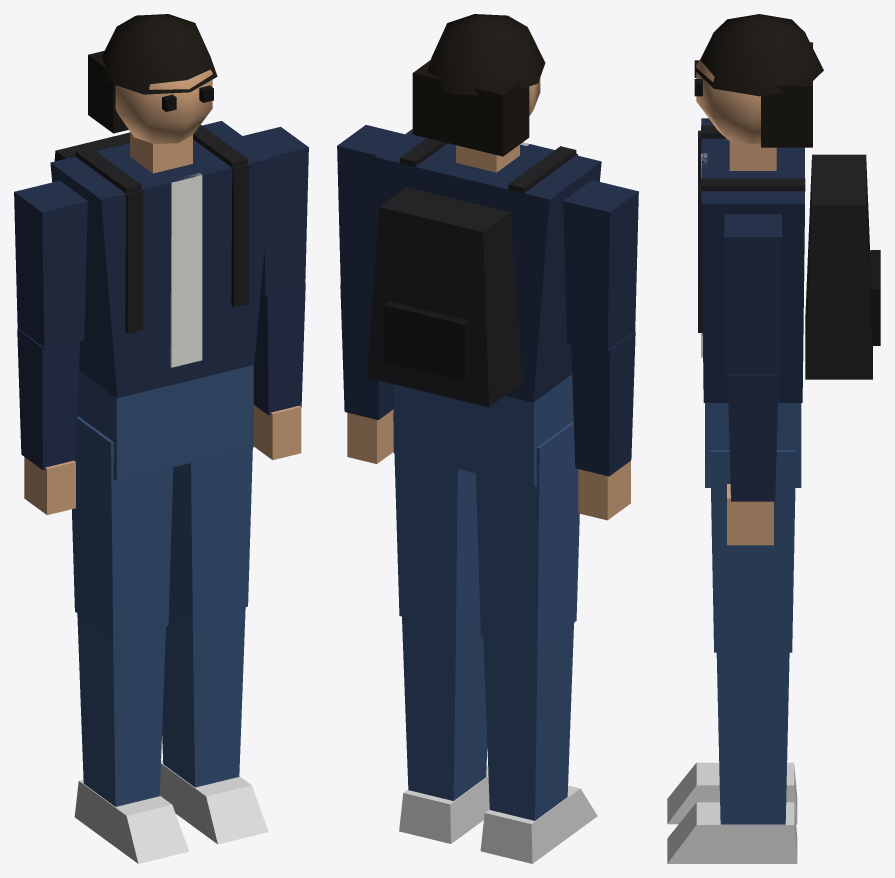
Rendered from npc_mahasiswa.glb.
The picture shows the model from 3 angles, left to right: view 1: azimuth 30°, elevation 25°; view 2: azimuth 150°, elevation 25°; view 3: azimuth 270°, elevation 25°; orthographic projection. The views are drawn at different scales.
Parts seen in each view (by area): view 1: torso, leg_r, leg_l, arm_r, arm_l, head; view 2: torso, leg_r, leg_l, arm_r, head, arm_l; view 3: torso, leg_l, arm_l, head, leg_r.
Part boxes in pixels (left/top/right/bottom): torso: left=50, top=121, right=272, bottom=480; leg_r: left=72, top=416, right=188, bottom=863; leg_l: left=159, top=408, right=268, bottom=844; arm_r: left=14, top=180, right=87, bottom=515; arm_l: left=243, top=126, right=308, bottom=459; head: left=88, top=14, right=217, bottom=143; torso: left=367, top=129, right=601, bottom=487; leg_r: left=476, top=421, right=597, bottom=863; leg_l: left=393, top=413, right=489, bottom=843; arm_r: left=563, top=180, right=638, bottom=520; head: left=412, top=14, right=545, bottom=156; arm_l: left=337, top=125, right=404, bottom=463; torso: left=698, top=118, right=880, bottom=487; leg_l: left=667, top=450, right=797, bottom=863; arm_l: left=724, top=214, right=781, bottom=545; head: left=694, top=14, right=823, bottom=147; leg_r: left=667, top=762, right=797, bottom=824.
Bounding box in the file's own units: 0.6035 × 1.73 × 0.41.
